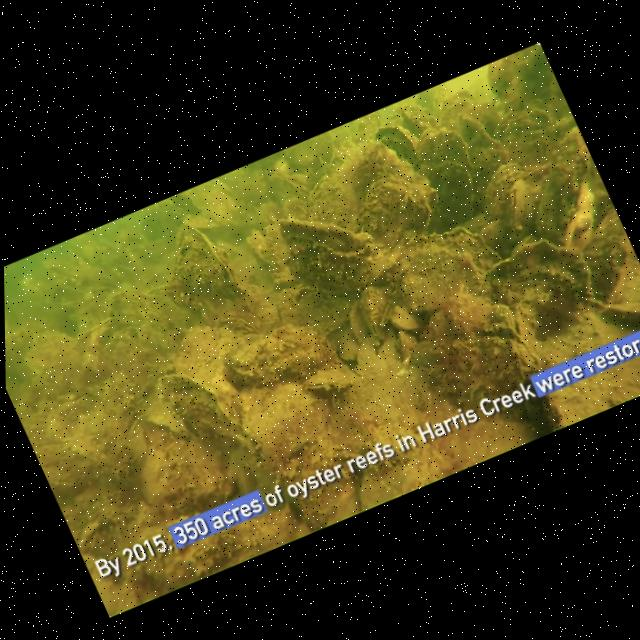Oyster-Closed: (173, 223, 243, 301), (510, 178, 540, 235)
Oyster-Indeterminate: (120, 490, 310, 601), (410, 293, 537, 412), (488, 238, 590, 327), (394, 227, 499, 313), (238, 382, 329, 459), (156, 373, 247, 441), (357, 173, 436, 245), (333, 142, 414, 200), (100, 327, 172, 389), (173, 324, 236, 384), (25, 330, 83, 386), (224, 333, 283, 388), (428, 160, 473, 227), (484, 161, 527, 220), (551, 125, 591, 182), (418, 127, 472, 169), (564, 181, 594, 248), (137, 306, 183, 349), (141, 444, 172, 502), (480, 218, 522, 258), (110, 290, 157, 325), (360, 284, 391, 337), (376, 124, 418, 162), (518, 399, 558, 434), (82, 316, 117, 353), (349, 299, 374, 342), (104, 444, 134, 479), (600, 301, 640, 327), (128, 421, 149, 464), (390, 305, 422, 330), (339, 325, 360, 360)
Oyster-Open: (278, 219, 393, 294), (488, 44, 570, 115), (304, 361, 357, 390), (78, 518, 112, 552), (214, 316, 259, 335), (347, 450, 378, 472)
